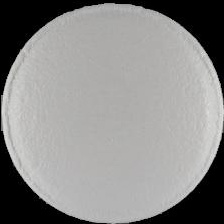68258-7157: (0, 0, 224, 224)
